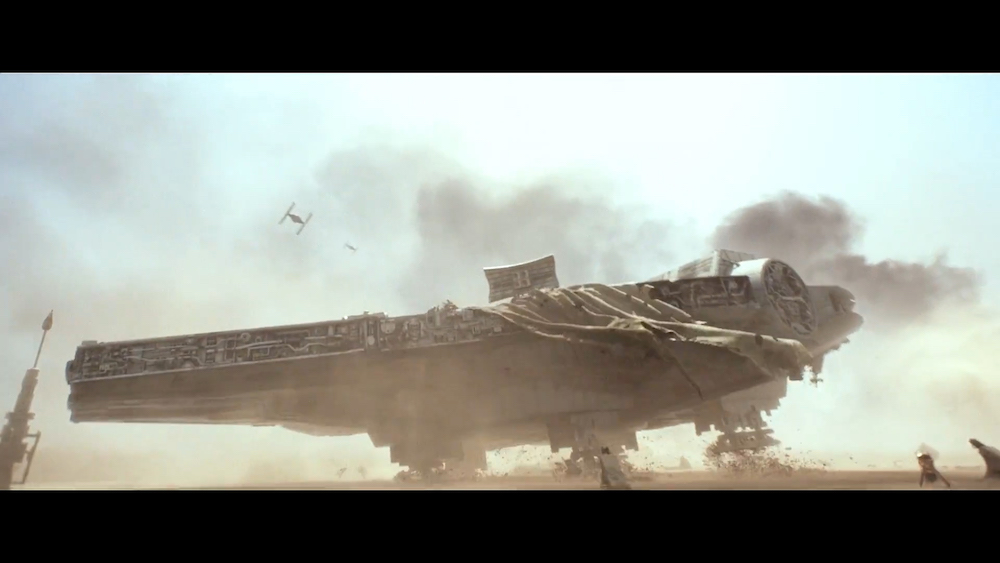Millennium Falcon: (67, 250, 867, 458)
Tie Fighter: (279, 202, 313, 236), (343, 240, 360, 256)
